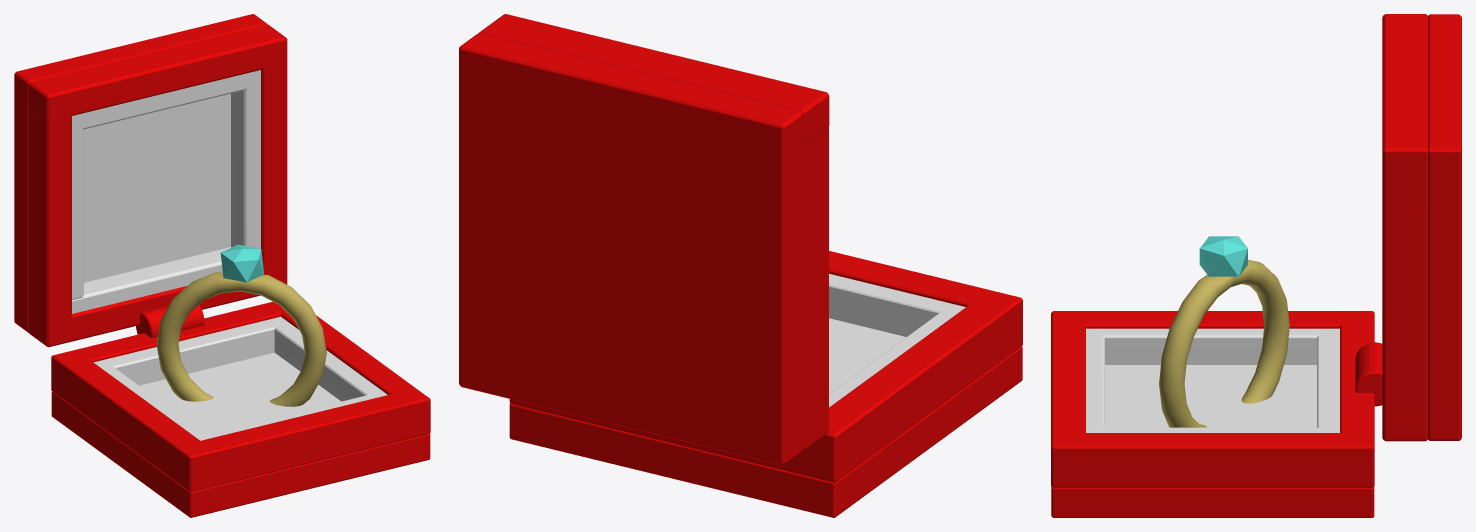
The model's file is Yuzuk_Model.fbx.
The picture shows the model from 3 angles, left to right: view 1: azimuth 30°, elevation 25°; view 2: azimuth 150°, elevation 25°; view 3: azimuth 270°, elevation 25°; orthographic projection. The views are drawn at different scales.
Parts seen in each view (by area): view 1: Dis_Kisim, Alt_Kisim, Yuzuk1; view 2: Dis_Kisim, Alt_Kisim; view 3: Alt_Kisim, Dis_Kisim, Yuzuk1.
Boxes of the visible parts, x1,y1,x2,y2 form: Dis_Kisim: (14,14,287,347); Alt_Kisim: (51,301,430,517); Yuzuk1: (156,244,326,406); Dis_Kisim: (459,14,829,465); Alt_Kisim: (509,251,1022,517); Alt_Kisim: (1051,311,1382,517); Dis_Kisim: (1382,14,1461,441); Yuzuk1: (1159,236,1289,427).
Bounding box in the file's own units: 44.63 × 56.23 × 56.66.
